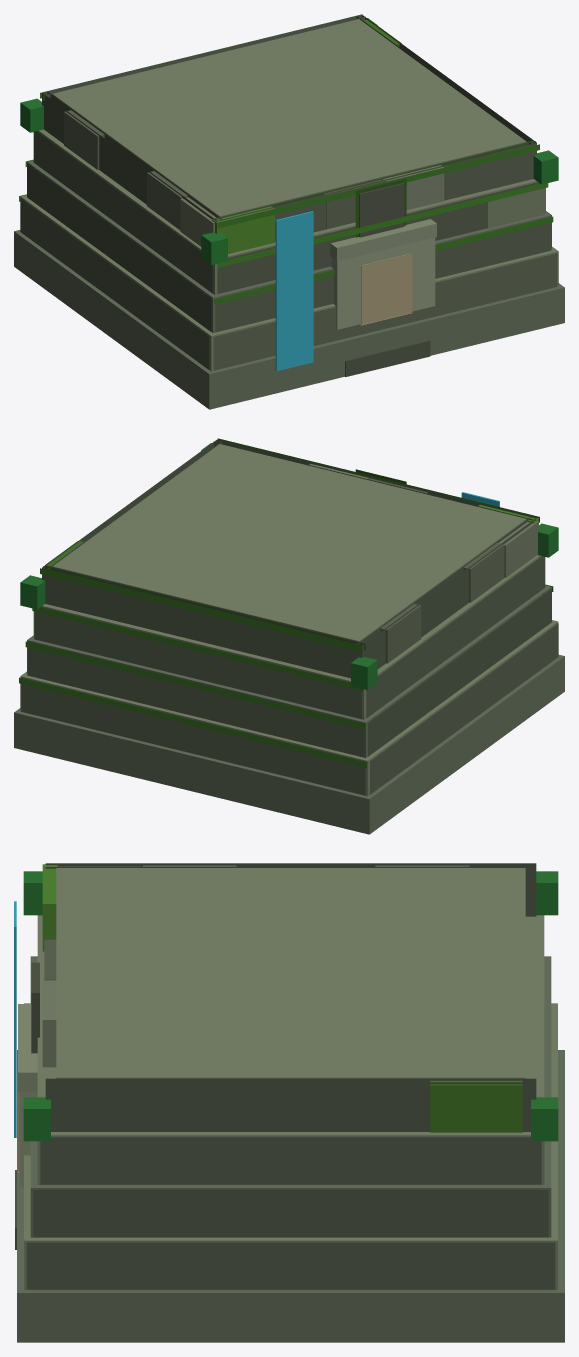
Rendered from GoldenBananaSil.fbx.
3 views of the same model, one above another, from view 1: azimuth 30°, elevation 25°; view 2: azimuth 150°, elevation 25°; view 3: azimuth 270°, elevation 25° (orthographic). The views are drawn at different scales.
Parts seen in each view (by area): view 1: GB_S_All; view 2: GB_S_All; view 3: GB_S_All.
Boxes of the visible parts, x1=… form: GB_S_All: x1=14, y1=14, x2=564, y2=409; GB_S_All: x1=14, y1=438, x2=564, y2=834; GB_S_All: x1=14, y1=863, x2=564, y2=1342.
Bounding box in the file's own units: 42 × 20 × 40.22.
